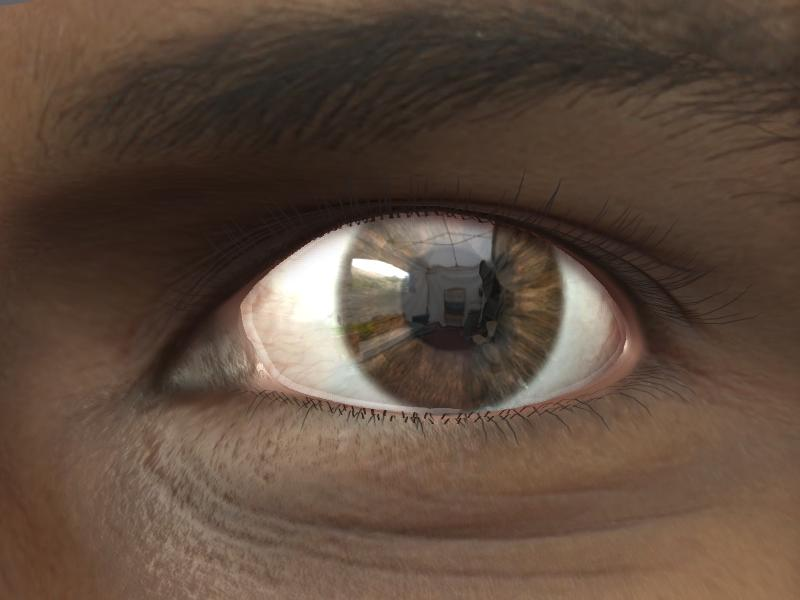eye: (338, 205, 568, 407)
